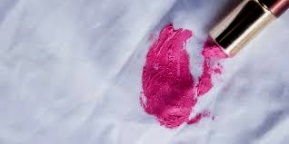lipstick: (135, 23, 208, 127)
